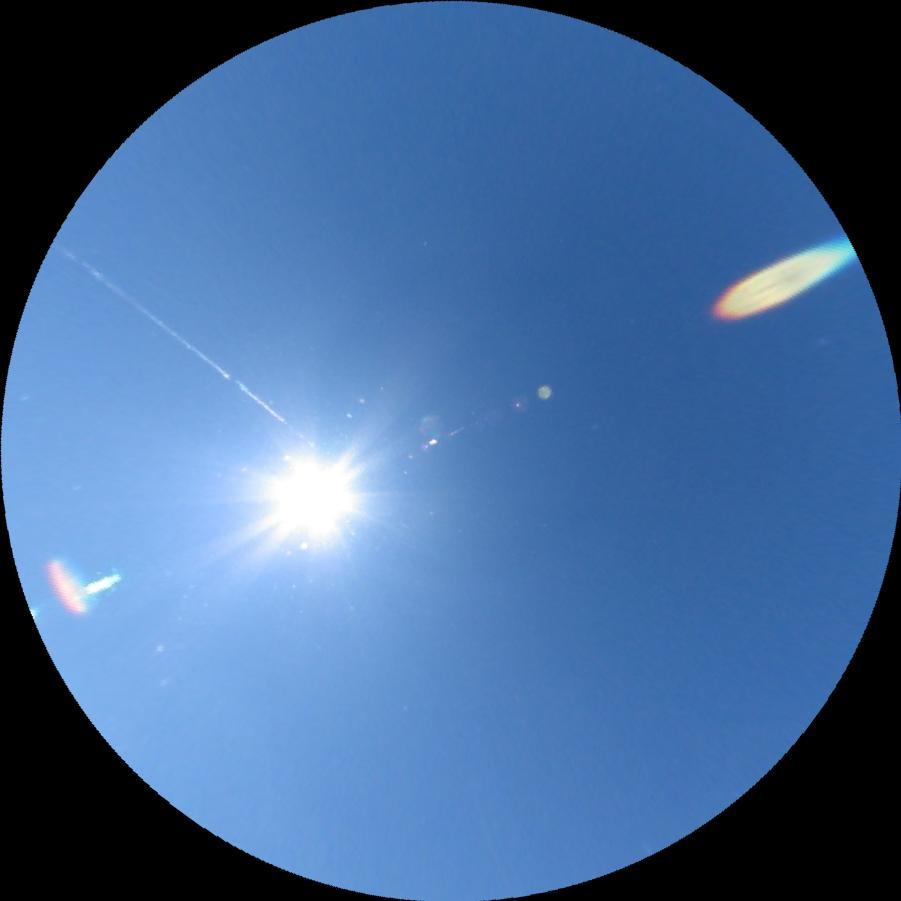parasite: (50, 236, 317, 445)
sun: (257, 446, 363, 552)
